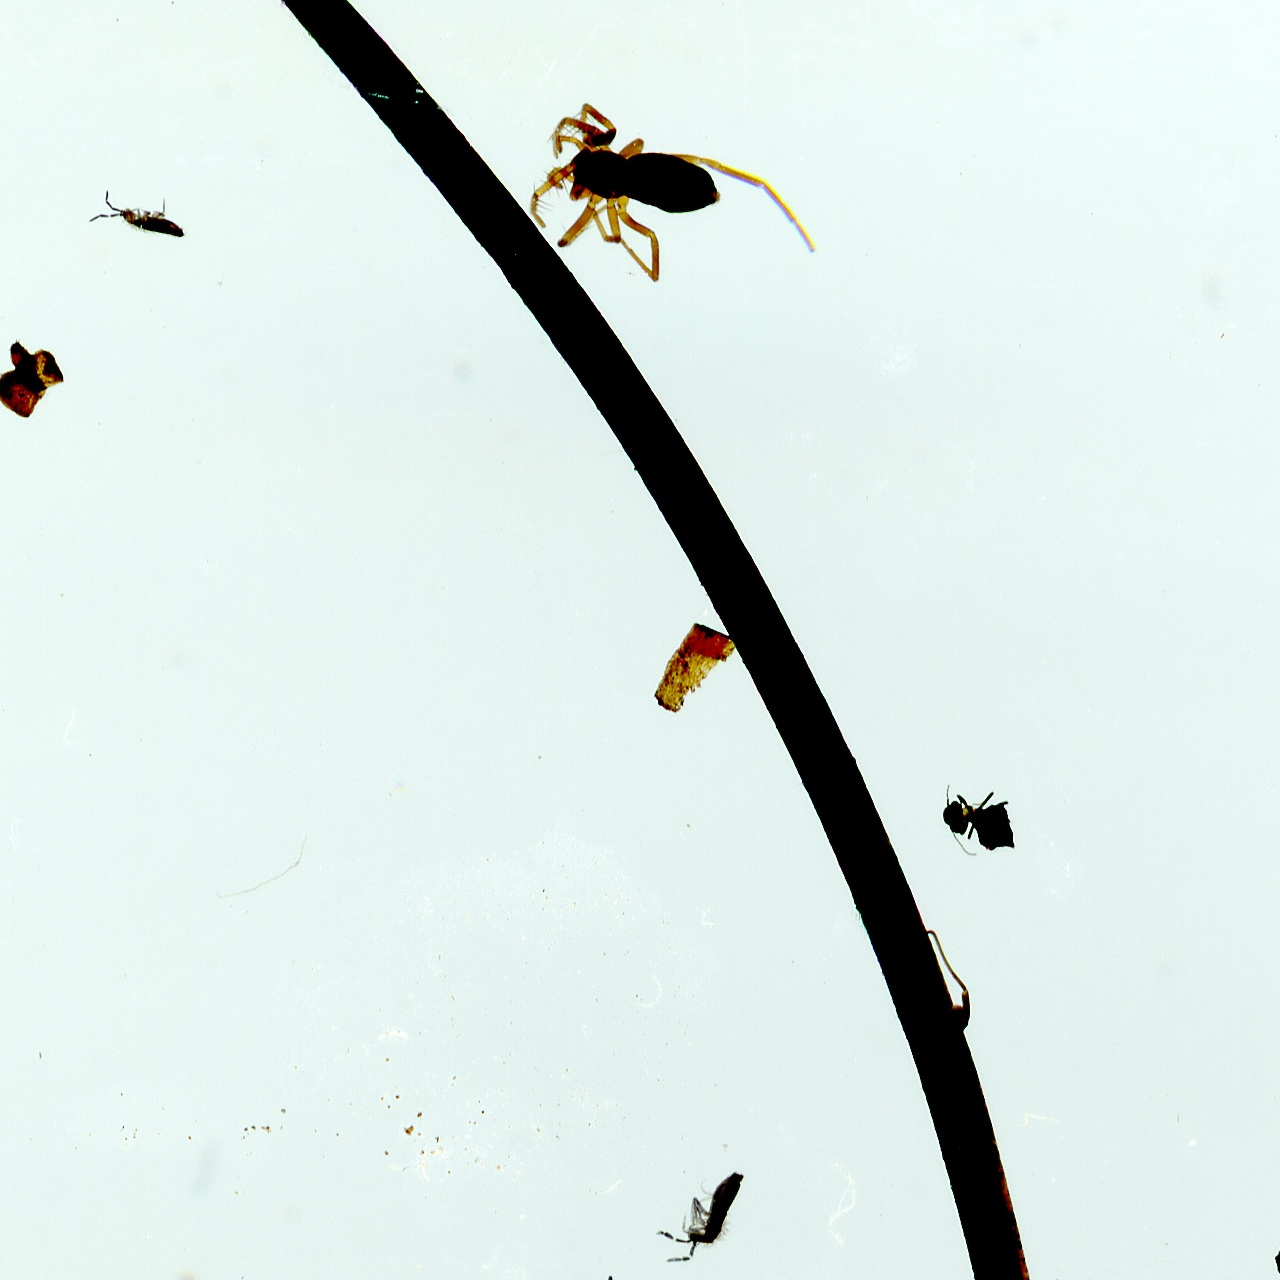arthropod: (510, 83, 835, 301), (641, 1136, 764, 1280), (73, 178, 210, 259), (935, 777, 1020, 859), (524, 1257, 645, 1280)
